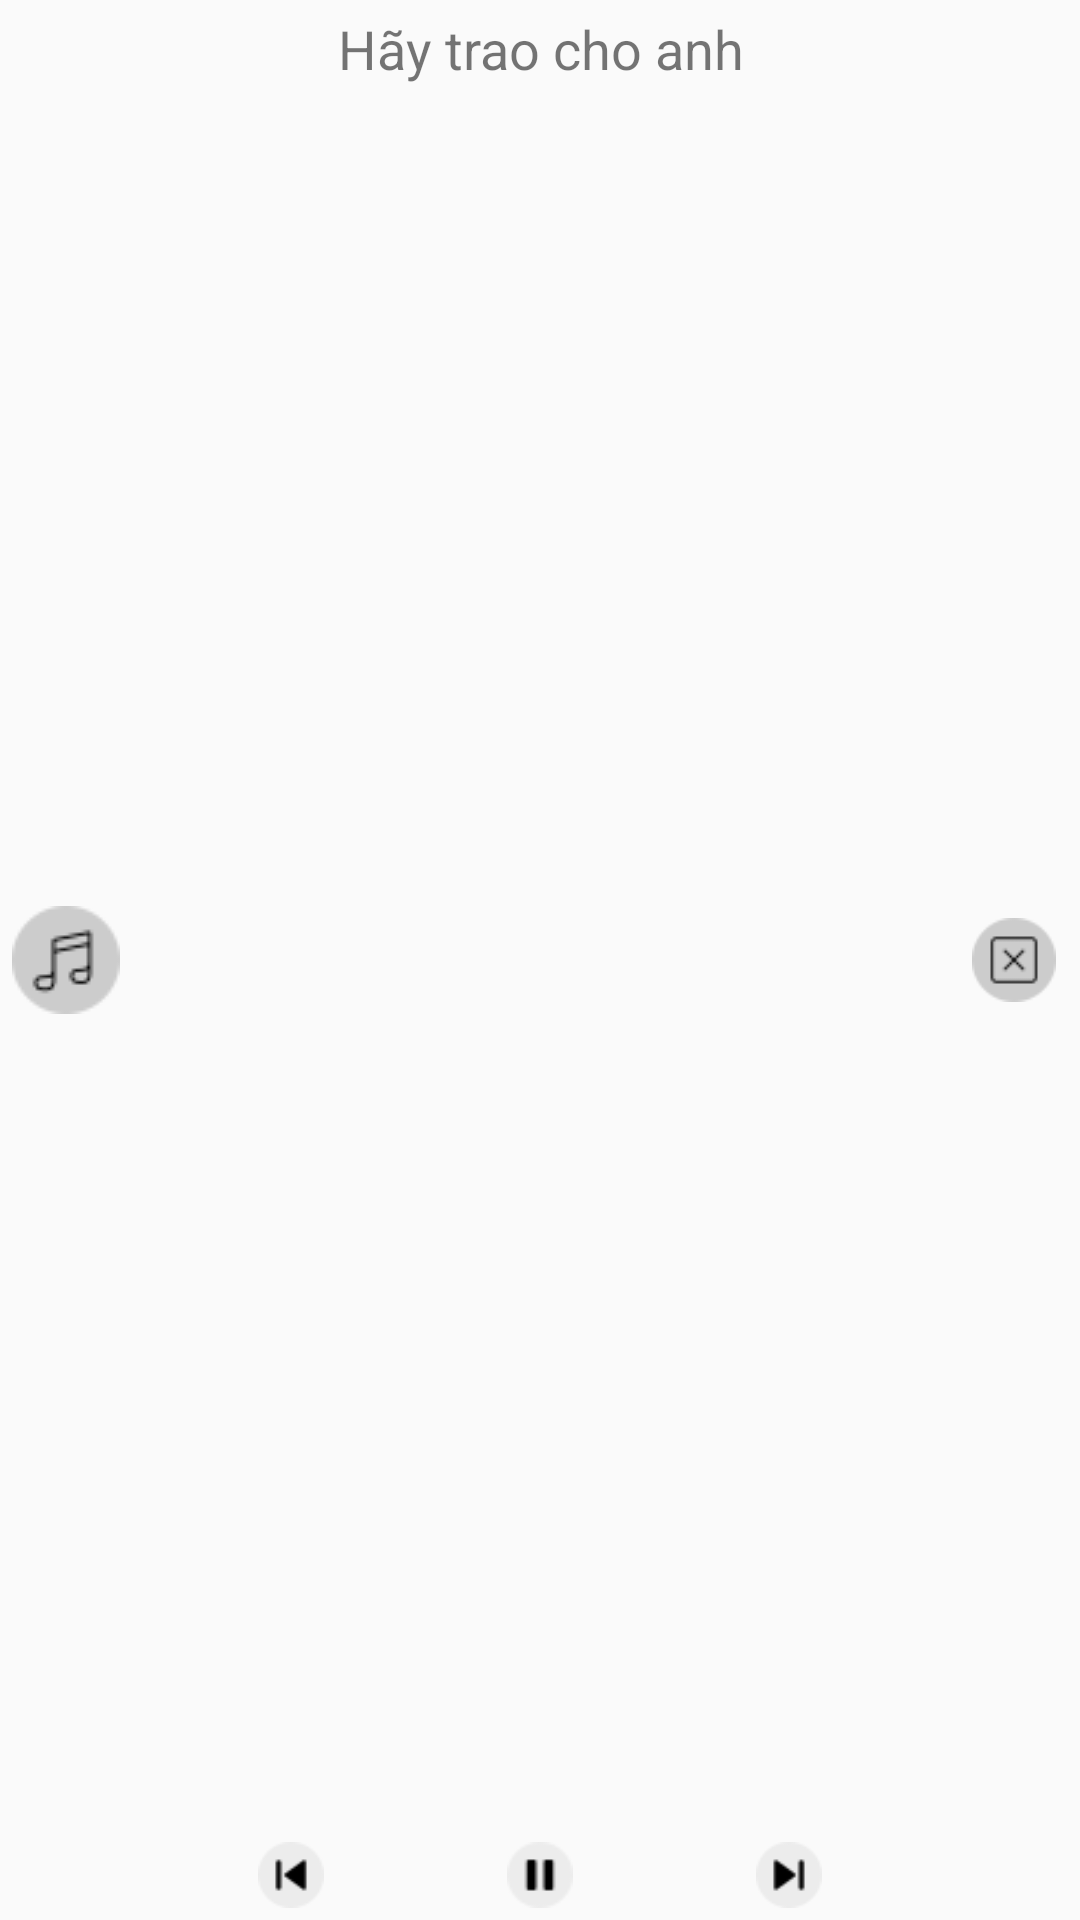

Where icons sit on this 1080px x 1920px app screen, as (x1, y1, x2, y2):
close: (972, 918, 1056, 1002)
music: (12, 906, 120, 1014)
next: (773, 1859, 805, 1891)
pause: (524, 1859, 556, 1891)
previous: (275, 1859, 307, 1891)
